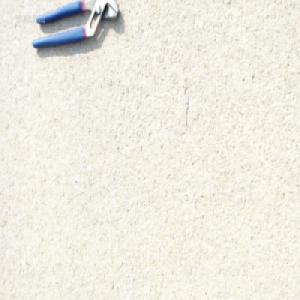Pliers: (30, 0, 120, 51)
